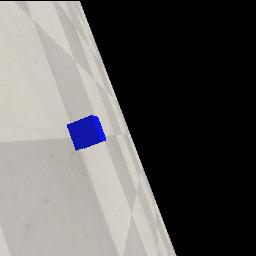box: (67, 115, 106, 151)
